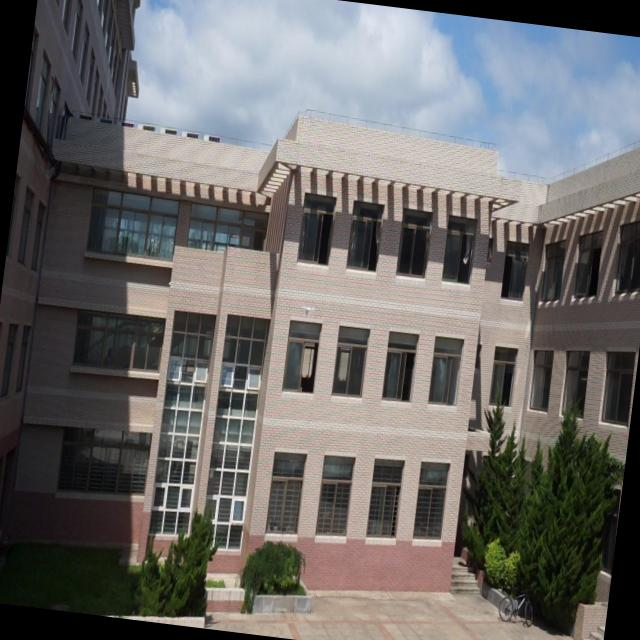drone: (296, 298, 320, 320)
